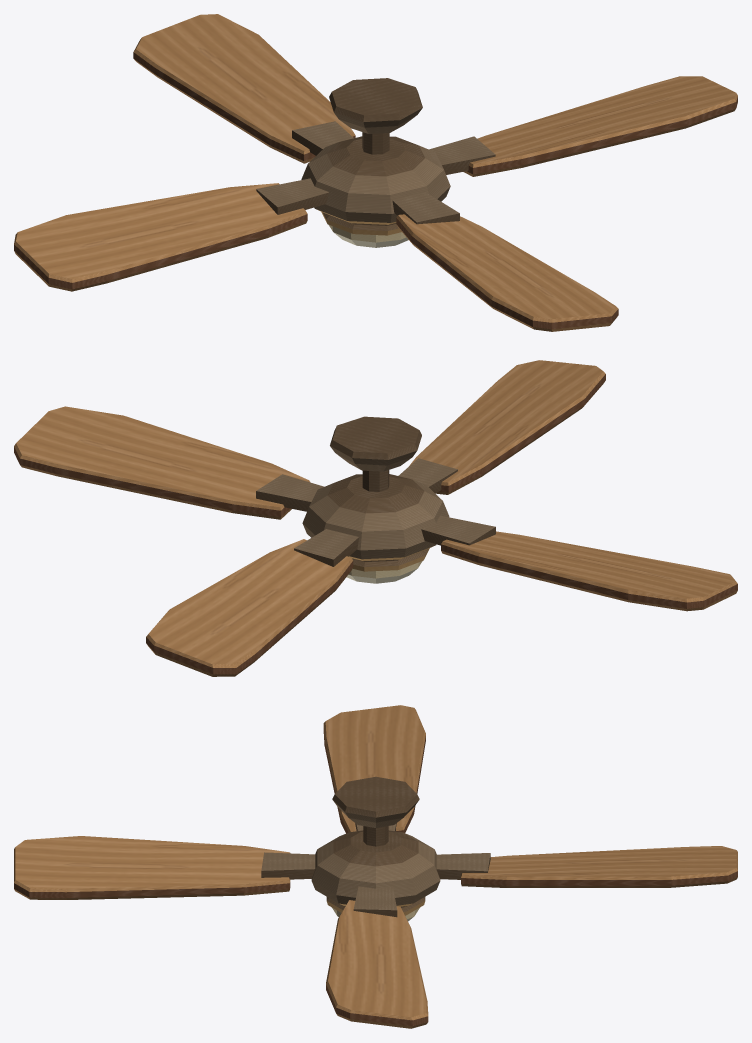
Rendered from ceiling_fan.glb.
3 views of the same model, one above another, from view 1: azimuth 30°, elevation 25°; view 2: azimuth 150°, elevation 25°; view 3: azimuth 270°, elevation 25° (orthographic). The views are drawn at different scales.
Visible parts, largest first — view 1: Ceiling Fan with Opal Light; view 2: Ceiling Fan with Opal Light; view 3: Ceiling Fan with Opal Light.
Boxes of the visible parts, x1,y1,x2,y2 form: Ceiling Fan with Opal Light: [14, 14, 737, 331]; Ceiling Fan with Opal Light: [14, 360, 737, 676]; Ceiling Fan with Opal Light: [14, 705, 737, 1028].
Size of the model in its own units: 1.56 by 0.303 by 1.56.
Materials: 2 (2 with a texture image).
